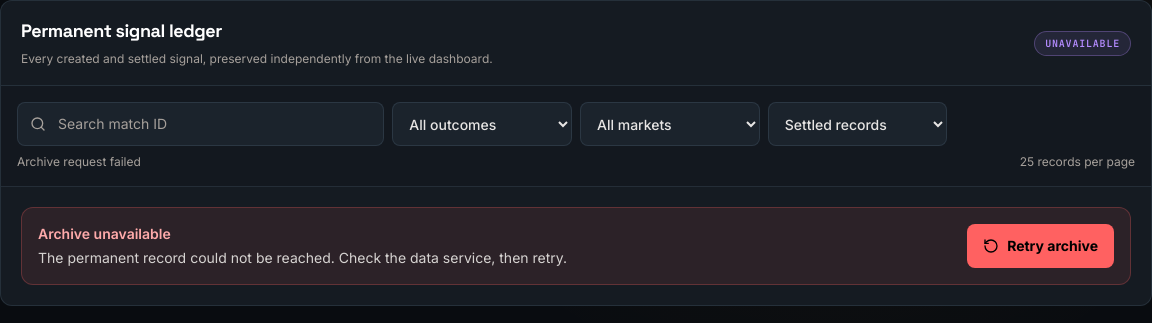
it: SignalArchivePanel › shows a recoverable error and retries the archive request
The width and height of the screenshot is (1152, 323).
Expected: the message shows "Archive unavailable", [38, 225, 171, 242]
Click the button "Retry archive" at (1041, 246), box [967, 224, 1114, 268]
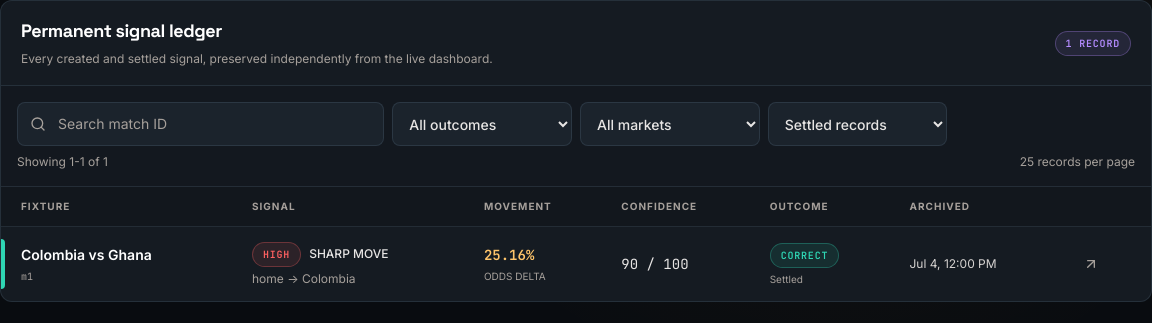
Result: the table named "Permanent signal archive" is shown at [1, 187, 1151, 301]
